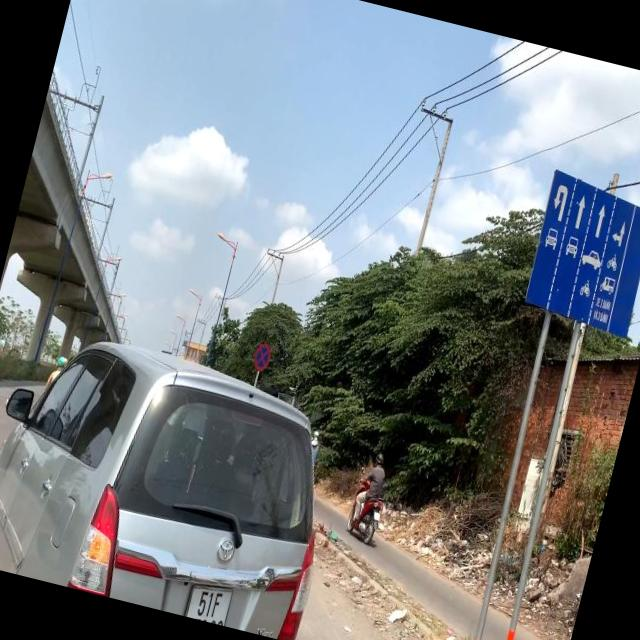P-130: (250, 338, 274, 375)
